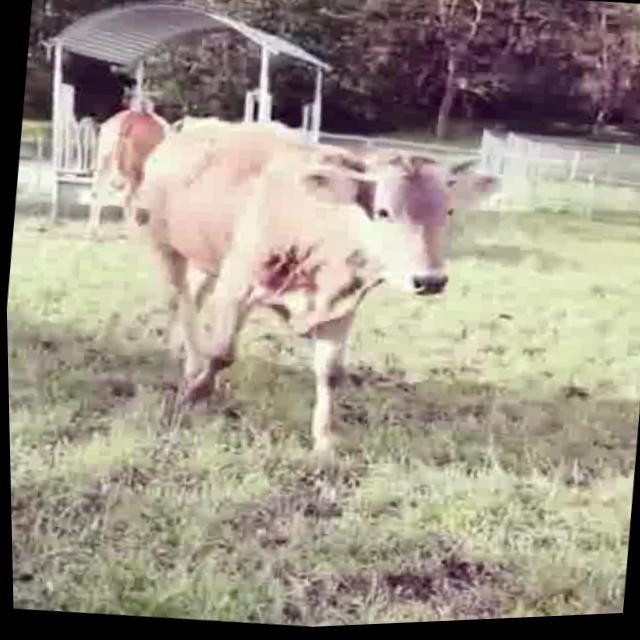cowFace: (287, 129, 513, 332)
